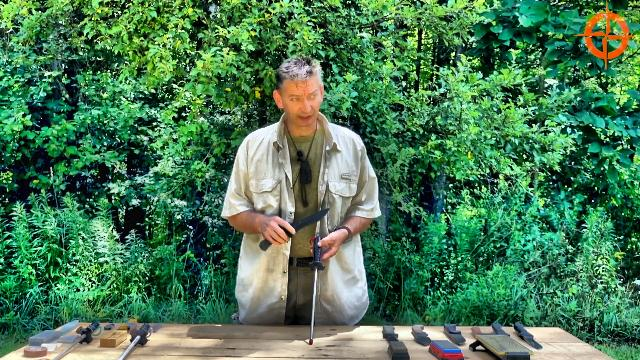knife: (255, 206, 332, 250)
